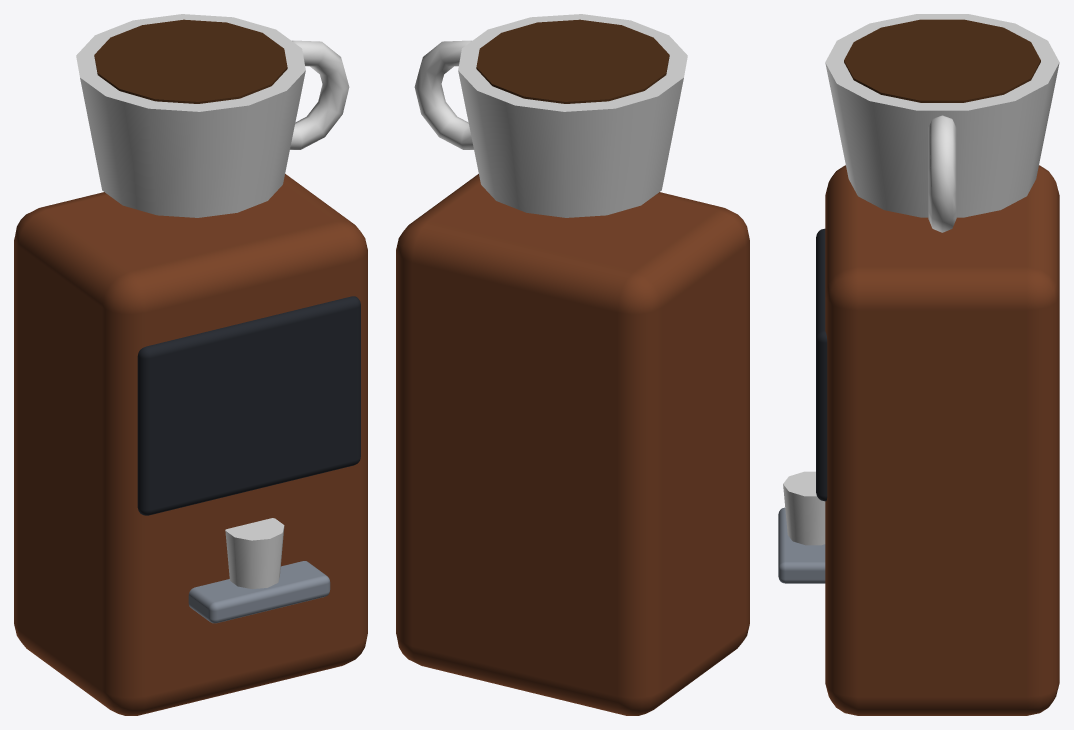
Rendered from coffee_machine.glb.
3 views of the same model, side by side, from view 1: azimuth 30°, elevation 25°; view 2: azimuth 150°, elevation 25°; view 3: azimuth 270°, elevation 25° (orthographic).
Parts seen in each view (by area): view 1: CoffeeMachine; view 2: CoffeeMachine; view 3: CoffeeMachine.
Part boxes in pixels (x1=…): CoffeeMachine: x1=14, y1=14, x2=367, y2=715; CoffeeMachine: x1=396, y1=14, x2=749, y2=715; CoffeeMachine: x1=778, y1=14, x2=1059, y2=715.
Size of the model in its own units: 1.43 by 2.83 by 1.2.
